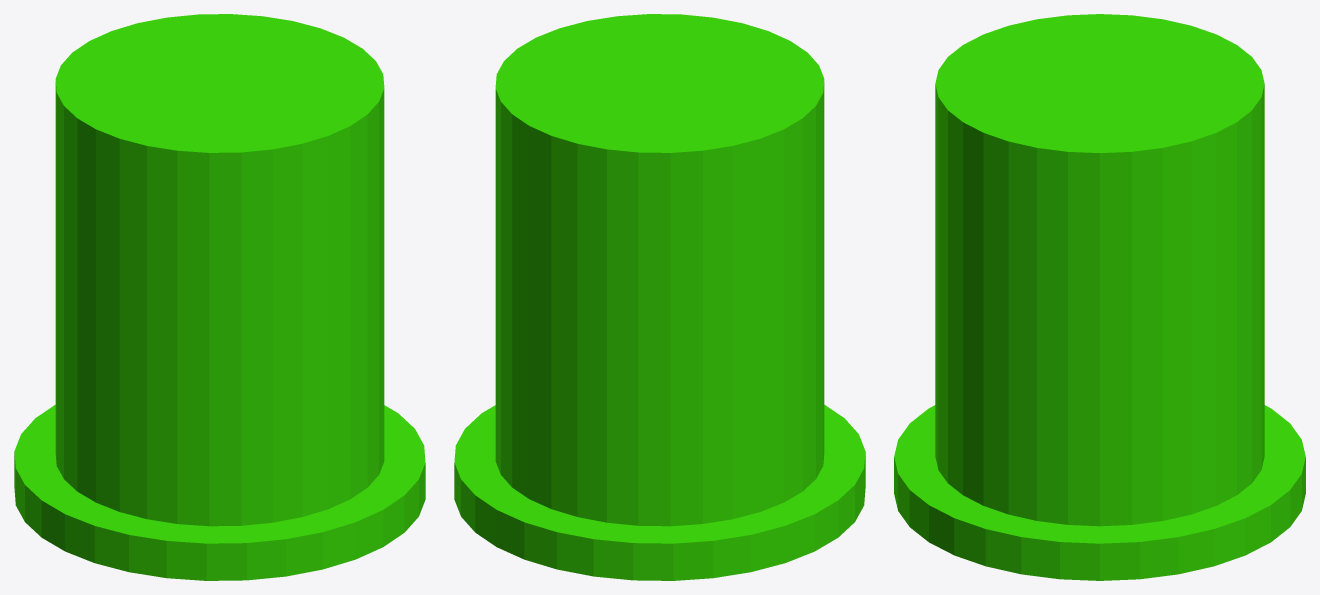
File: hat3.fbx
3 renders of one model, left to right at view 1: azimuth 30°, elevation 25°; view 2: azimuth 150°, elevation 25°; view 3: azimuth 270°, elevation 25°, orthographic.
Visible parts, largest first — view 1: Cylinder.001, Cylinder; view 2: Cylinder.001, Cylinder; view 3: Cylinder.001, Cylinder.
Boxes of the visible parts, left/top/right/bottom form: Cylinder.001: left=55, top=14, right=384, bottom=526; Cylinder: left=14, top=404, right=425, bottom=580; Cylinder.001: left=495, top=14, right=824, bottom=526; Cylinder: left=454, top=404, right=865, bottom=580; Cylinder.001: left=935, top=14, right=1264, bottom=526; Cylinder: left=894, top=405, right=1305, bottom=580.
Size of the model in its own units: 200 by 220 by 200.
